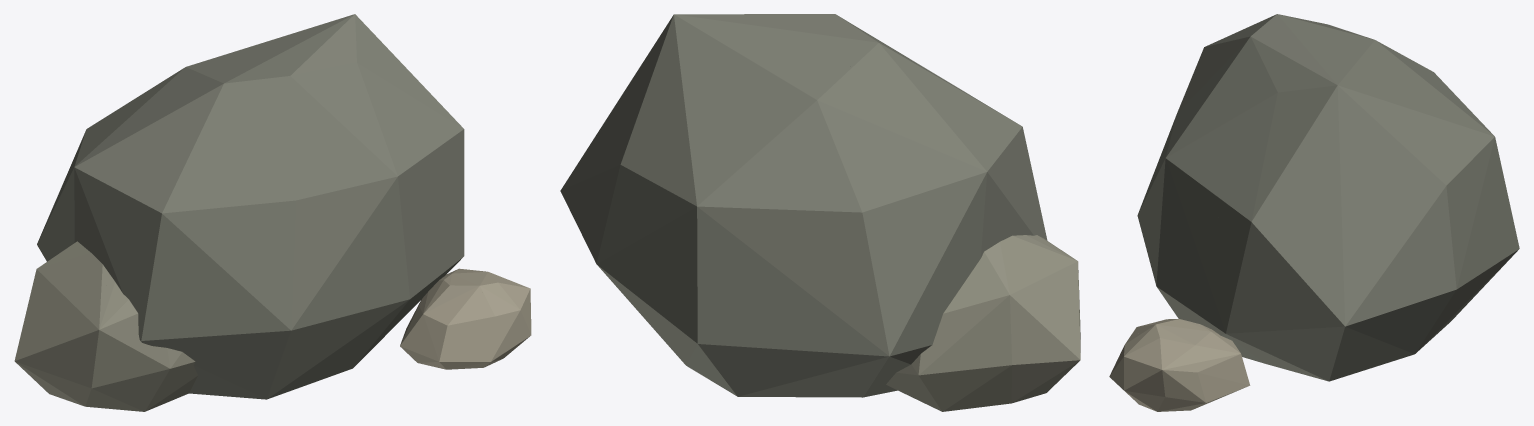
Rendered from FSA_ENV_Outdoor_Rock_04_Massif.glb.
3 renders of one model, left to right at view 1: azimuth 30°, elevation 25°; view 2: azimuth 150°, elevation 25°; view 3: azimuth 270°, elevation 25°, orthographic. The views are drawn at different scales.
Parts seen in each view (by area): view 1: Massif, BrokenShoulder, FrontFragment; view 2: Massif, BrokenShoulder; view 3: Massif, FrontFragment.
Boxes of the visible parts, <box> form: Massif: <box>37,14,464,399</box>; BrokenShoulder: <box>14,241,197,411</box>; FrontFragment: <box>400,268,531,369</box>; Massif: <box>560,14,1047,397</box>; BrokenShoulder: <box>886,235,1080,411</box>; Massif: <box>1137,14,1519,381</box>; FrontFragment: <box>1109,319,1250,411</box>.
Size of the model in its own units: 6.15 by 3.65 by 4.63.
